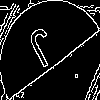J: (25, 25, 64, 78)
